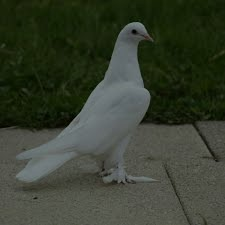pigeon: (12, 19, 166, 189)
